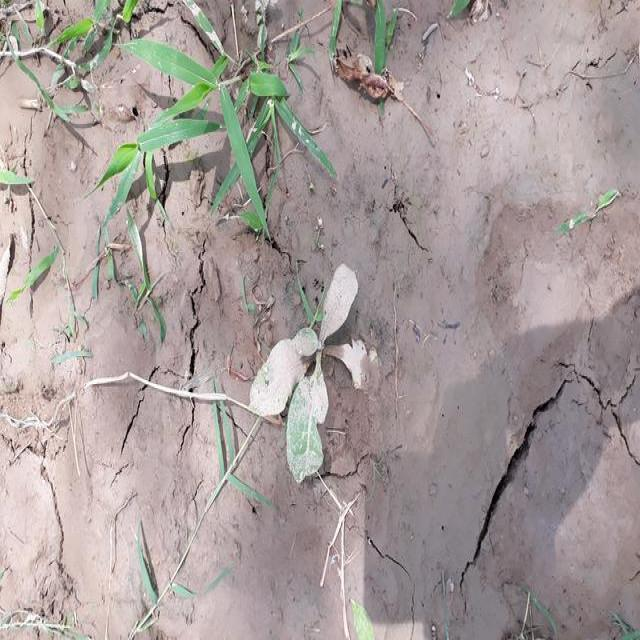crop: (254, 266, 374, 484)
